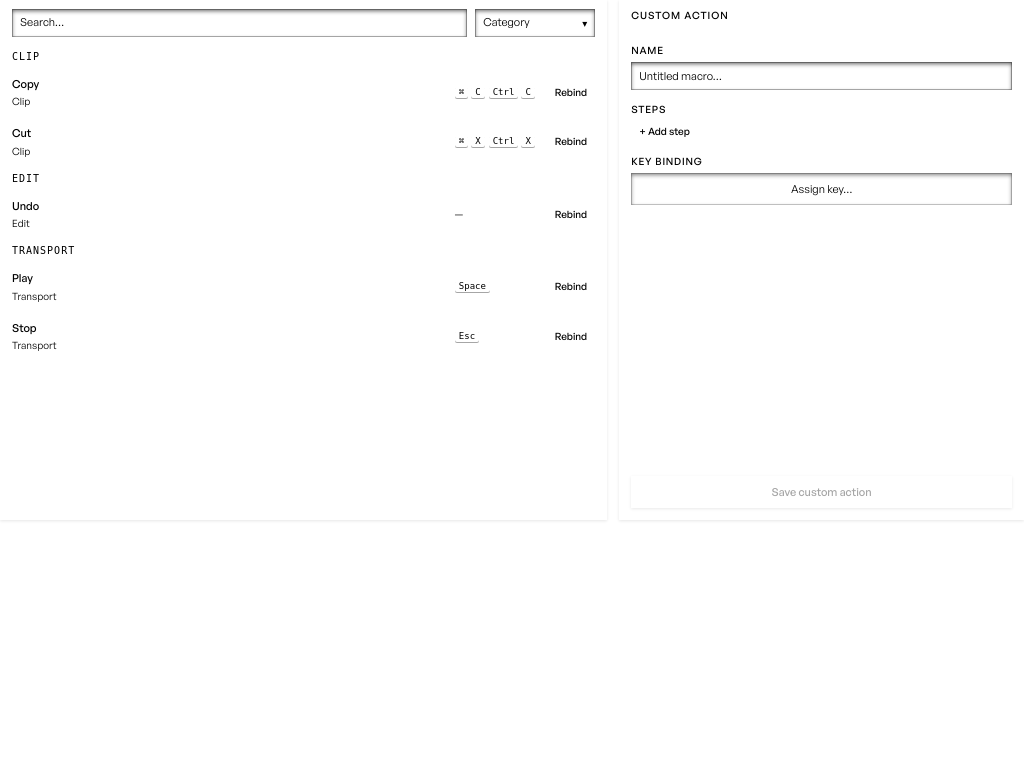
Test: Shortcuts — macro builder › adds a step when Add step is clicked
The image size is (1024, 768).
Click the button "+ Add step".
click(664, 131)  # box [631,121,1012,142]
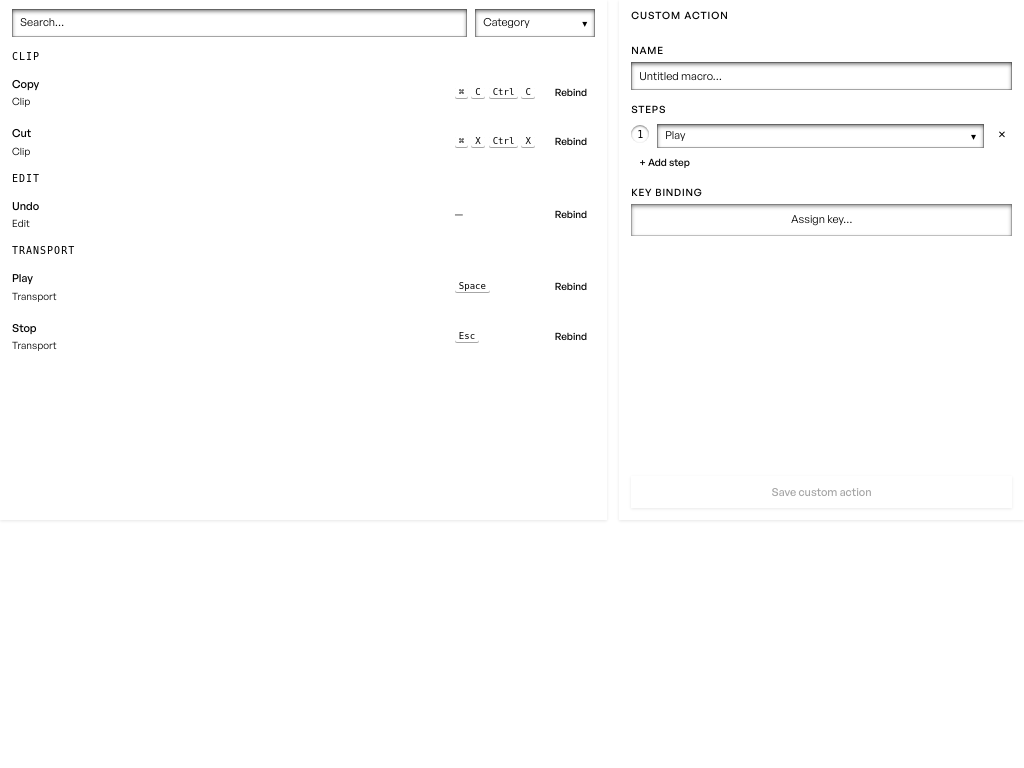
Now the button with aria-label "Step 1 action" is shown, box [657,124,984,148]
